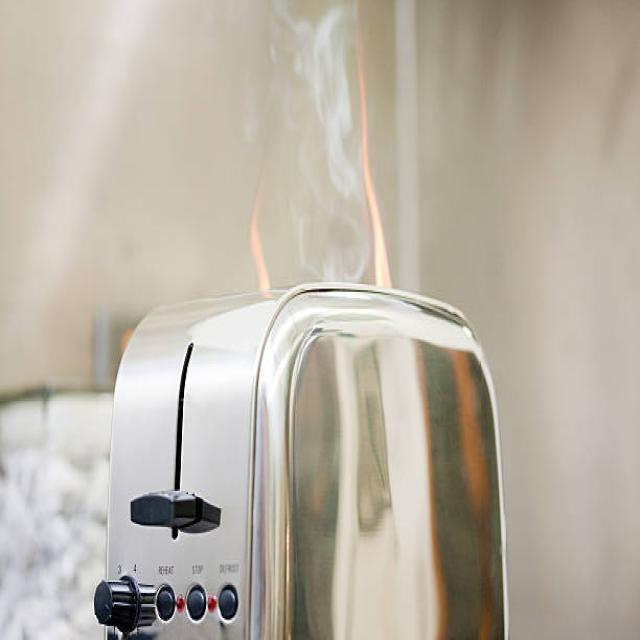fire: (347, 12, 410, 296), (234, 136, 292, 309)
